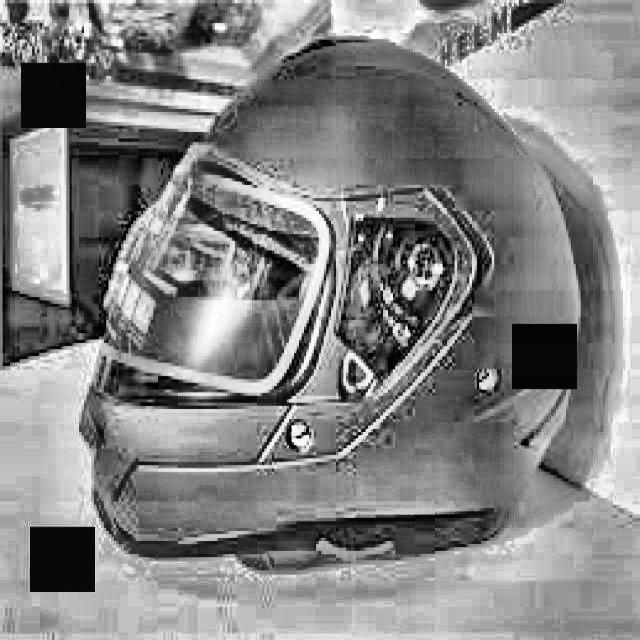Helmet: (85, 54, 589, 579)
